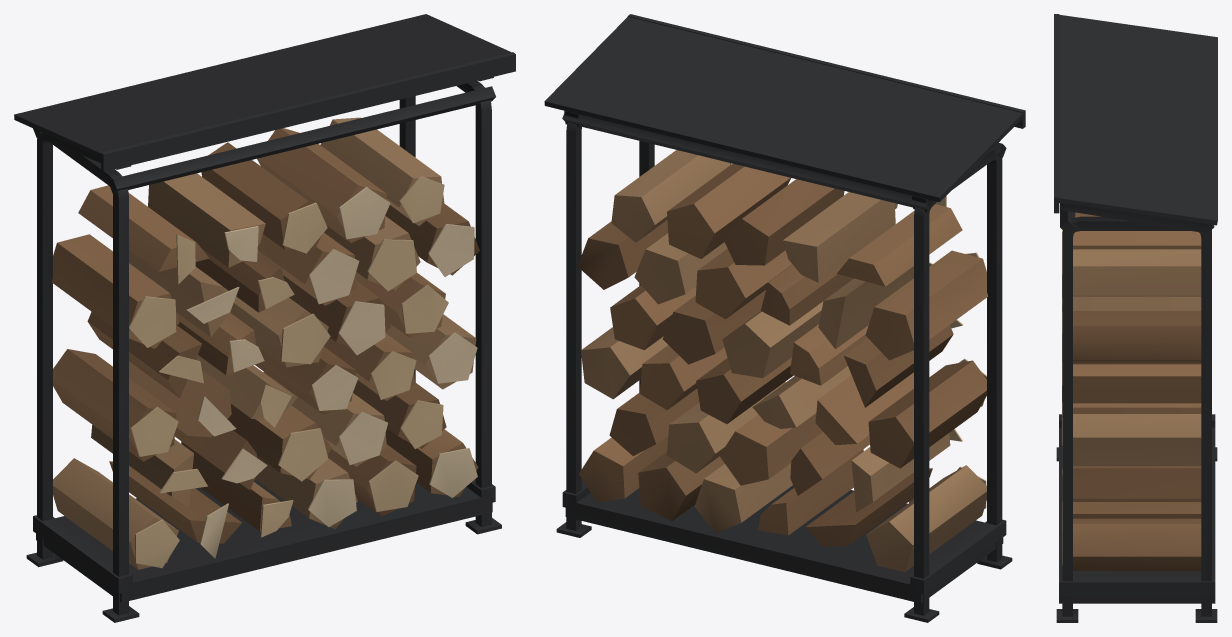
File: firewoodStack.far.glb
3 views of the same model, side by side, from view 1: azimuth 30°, elevation 25°; view 2: azimuth 150°, elevation 25°; view 3: azimuth 270°, elevation 25° (orthographic). The views are drawn at different scales.
Parts seen in each view (by area): view 1: firewoodStack; view 2: firewoodStack; view 3: firewoodStack.
Boxes of the visible parts, x1=… form: firewoodStack: x1=14, y1=14, x2=515, y2=622; firewoodStack: x1=544, y1=14, x2=1025, y2=622; firewoodStack: x1=1054, y1=14, x2=1217, y2=622.
Size of the model in its own units: 1 by 1.1 by 0.3769.
